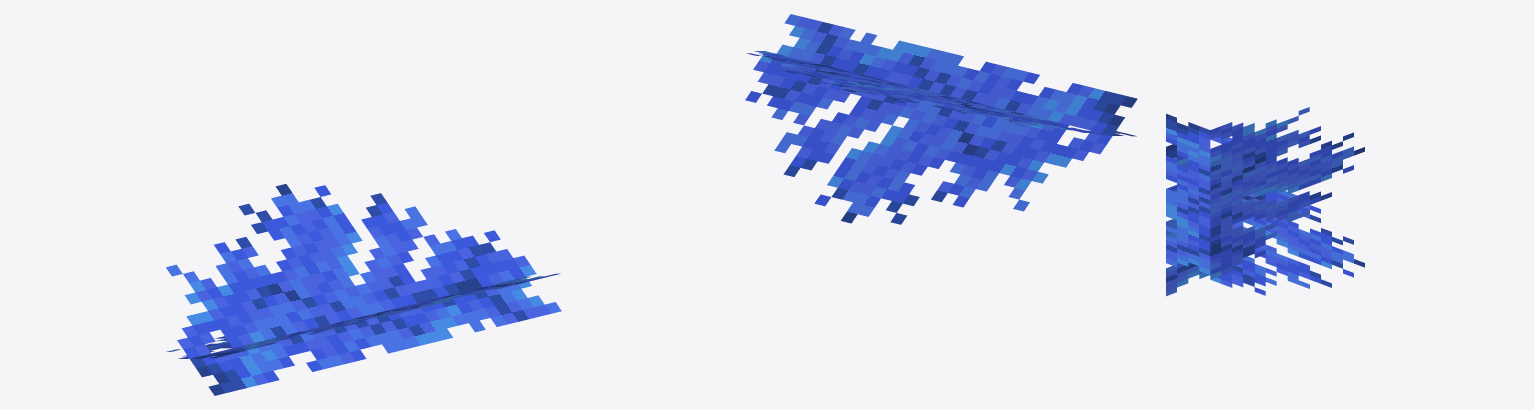
Rendered from block_tube_coral_wall_fan.gltf.
3 renders of one model, left to right at view 1: azimuth 30°, elevation 25°; view 2: azimuth 150°, elevation 25°; view 3: azimuth 270°, elevation 25°, orthographic. The views are drawn at different scales.
Parts seen in each view (by area): view 1: cube (×2); view 2: cube (×2); view 3: cube (×2).
Boxes of the visible parts, x1,y1,x2,y2 form: cube (×2): (166,184,561,395); cube (×2): (745,14,1137,224); cube (×2): (1166,107,1364,296).
Bounding box in the file's own units: 1 × 0.7249 × 1.
1 material, 1 textured.
